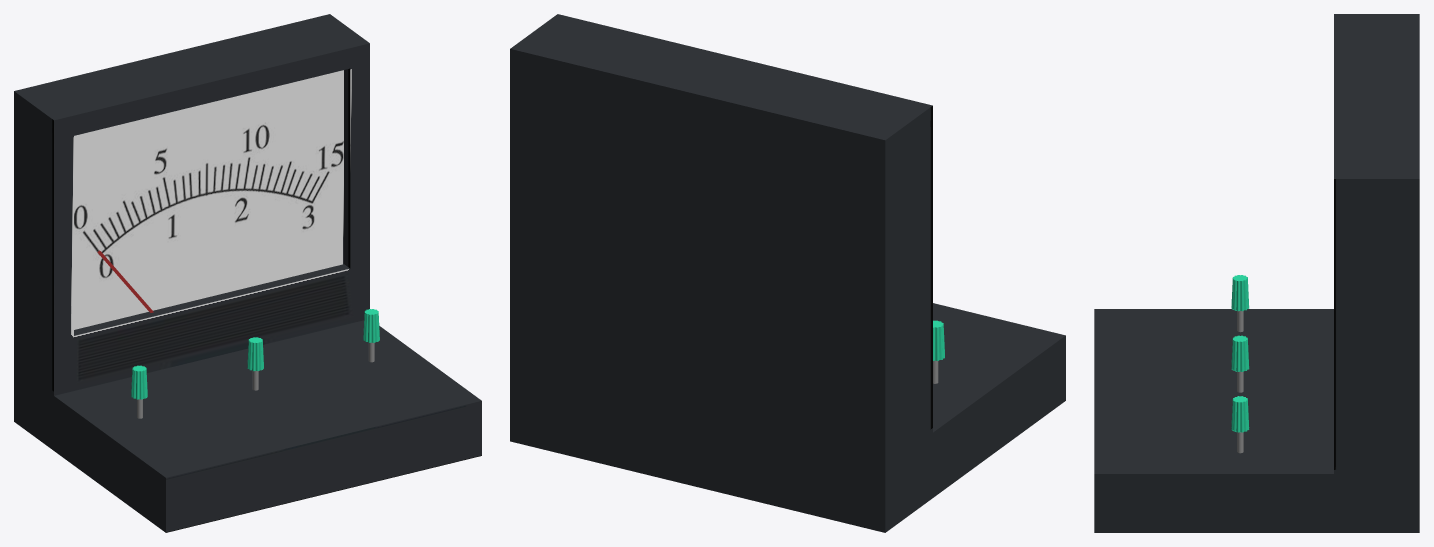
The model's file is voltmeter.FBX.
3 renders of one model, left to right at view 1: azimuth 30°, elevation 25°; view 2: azimuth 150°, elevation 25°; view 3: azimuth 270°, elevation 25°, orthographic. The views are drawn at different scales.
Visible parts, largest first — view 1: dianyabiao; view 2: dianyabiao; view 3: dianyabiao, suliao1, suliao2, suliao3.
Part boxes in pixels (bbox=[...]): dianyabiao: bbox=[14, 14, 481, 532]; dianyabiao: bbox=[510, 14, 1065, 532]; dianyabiao: bbox=[1094, 14, 1419, 532]; suliao1: bbox=[1231, 275, 1249, 311]; suliao2: bbox=[1231, 335, 1249, 371]; suliao3: bbox=[1231, 396, 1249, 432].
Size of the model in its own units: 300 by 300 by 250.
